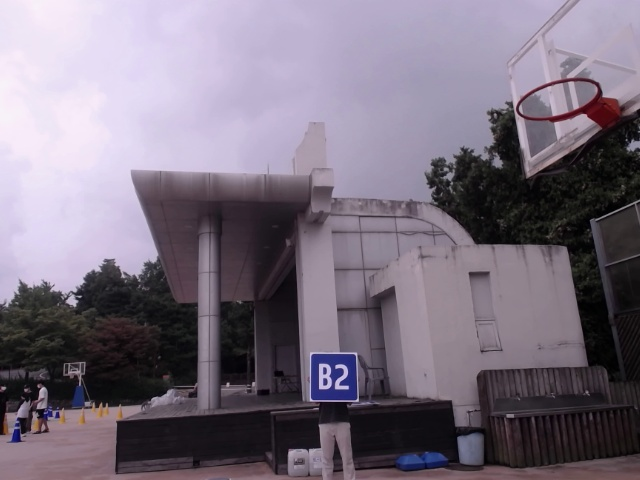delivery_b2: (310, 352, 359, 402)
